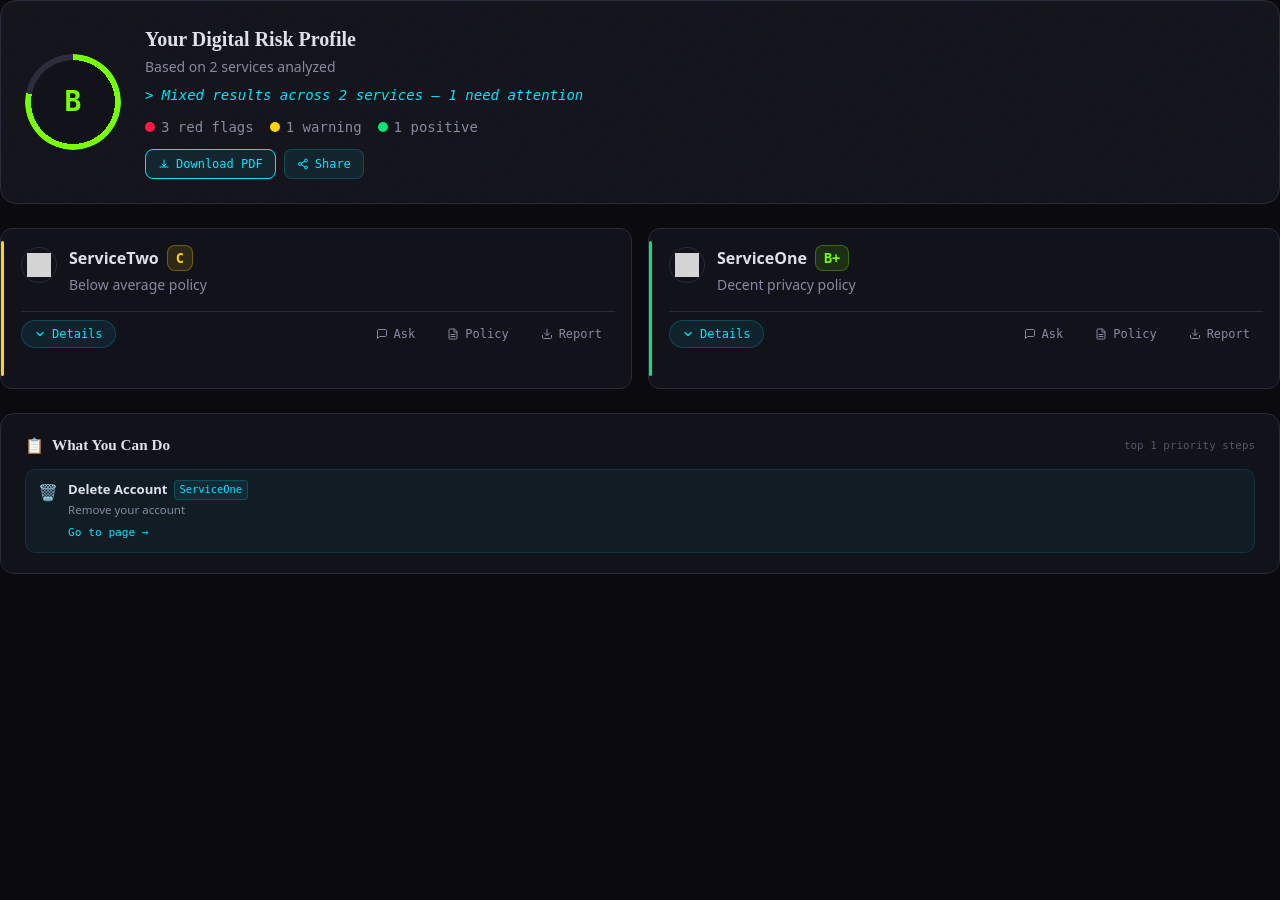
it: RiskProfile › toggles chat open and close
Note: Chat button has title "Ask questions about this policy"
Step 1. Click the button titled "Ask questions about this policy" below "Below average policy" → [395, 334], box [363, 320, 428, 348]
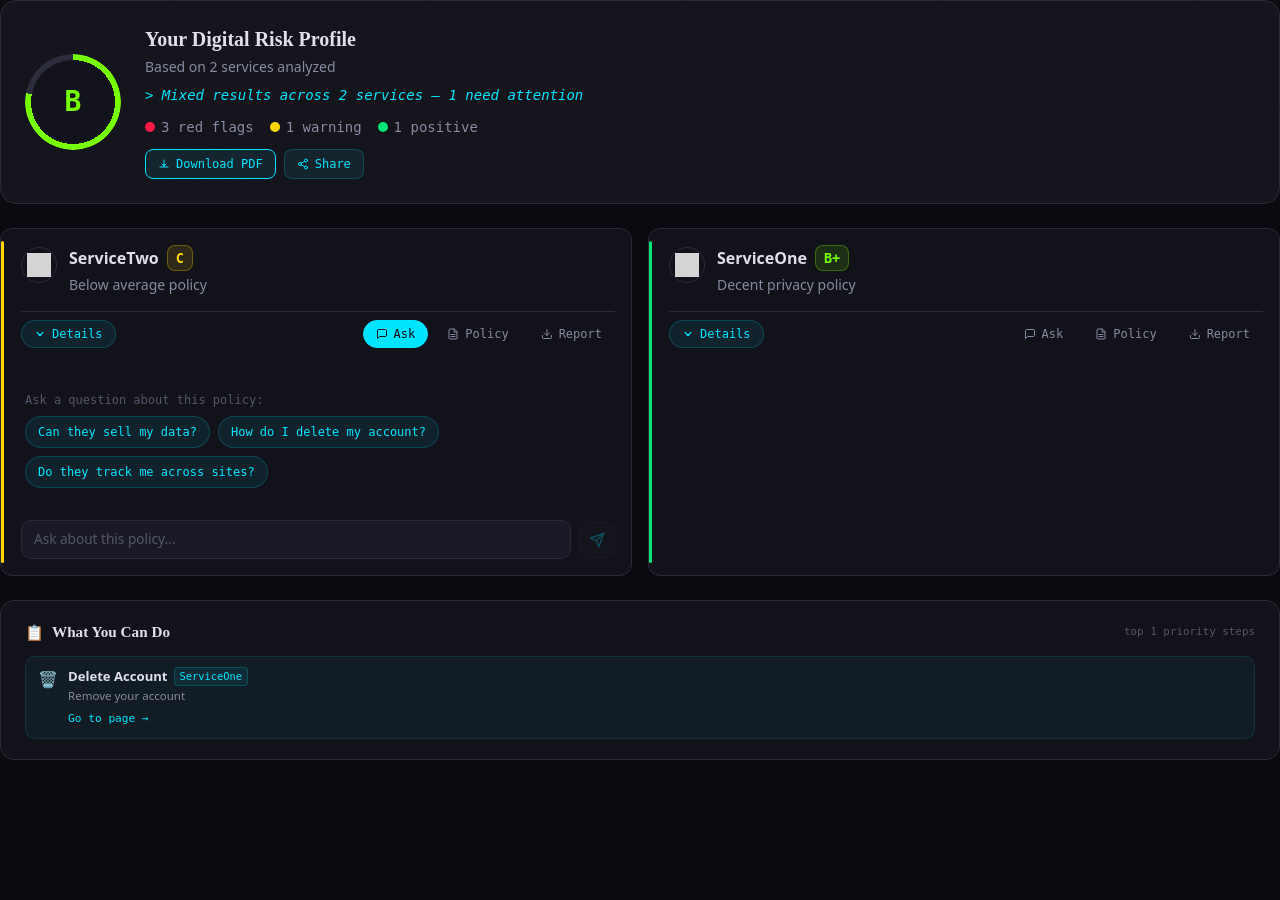
Check: the button titled "Close chat" below "Below average policy" is shown
Step 2. Click the button titled "Close chat" below "Below average policy" → [395, 334], box [363, 320, 428, 348]
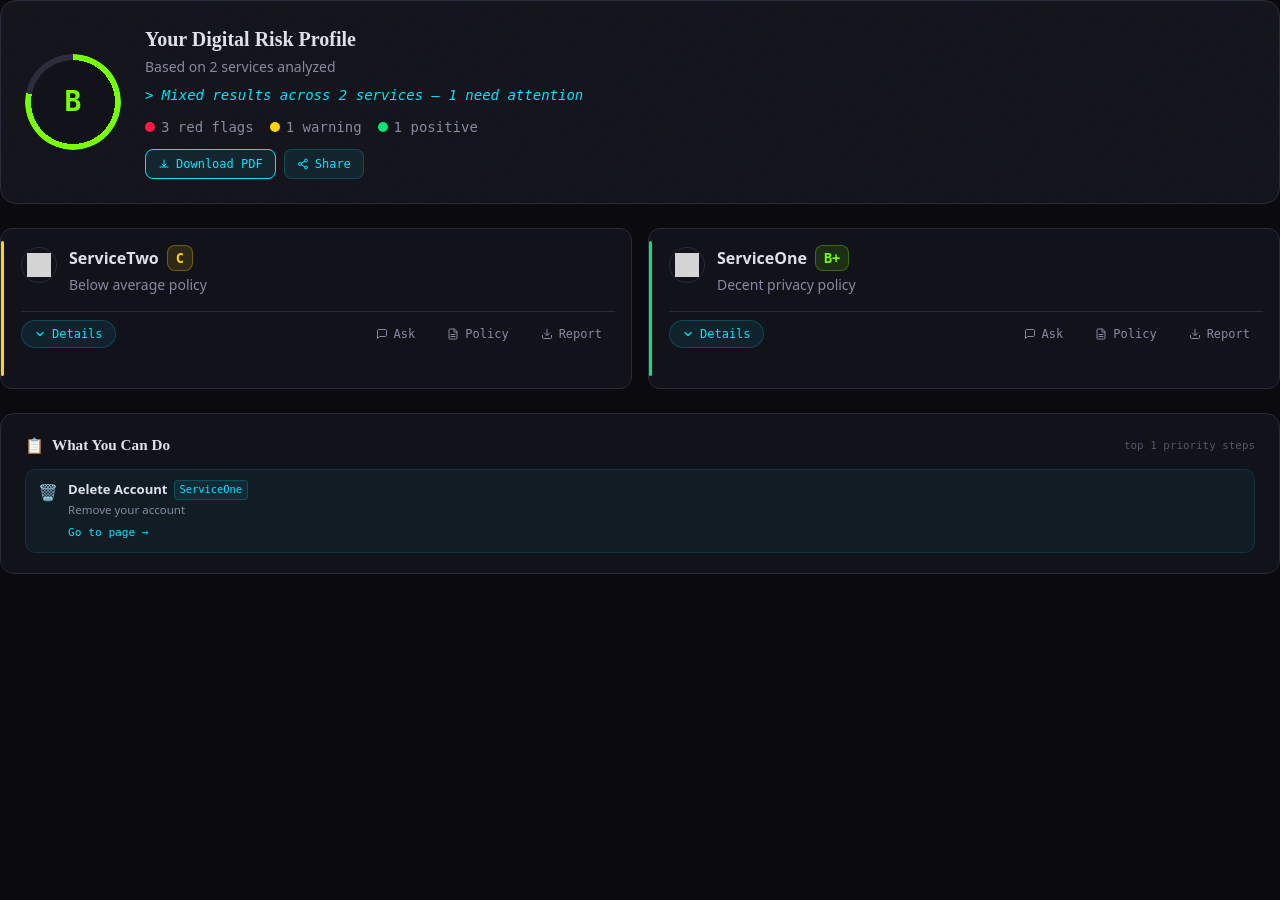
Check: the button titled "Ask questions about this policy" below "Below average policy" is shown, box [363, 320, 428, 348]
